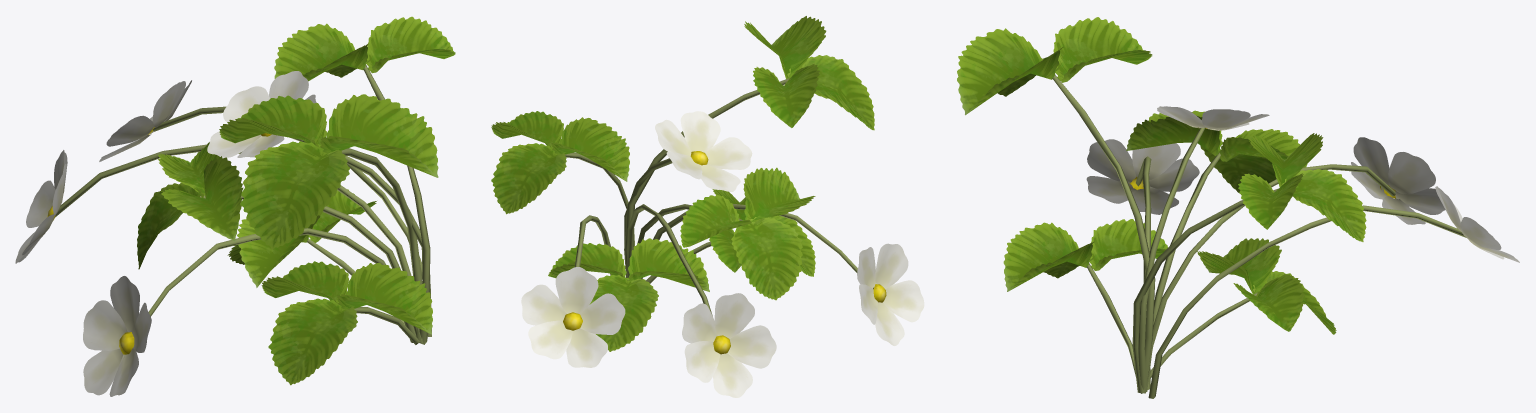
The model's file is Strawberry_flowering.fbx.
3 renders of one model, left to right at view 1: azimuth 30°, elevation 25°; view 2: azimuth 150°, elevation 25°; view 3: azimuth 270°, elevation 25°, orthographic. The views are drawn at different scales.
Parts seen in each view (by area): view 1: Strawberry_flowering; view 2: Strawberry_flowering; view 3: Strawberry_flowering.
Boxes of the visible parts, x1,y1,x2,y2 form: Strawberry_flowering: (15, 16, 455, 396); Strawberry_flowering: (491, 16, 924, 397); Strawberry_flowering: (957, 17, 1519, 398).
Bounding box in the file's own units: 26.57 × 18.19 × 31.59.
